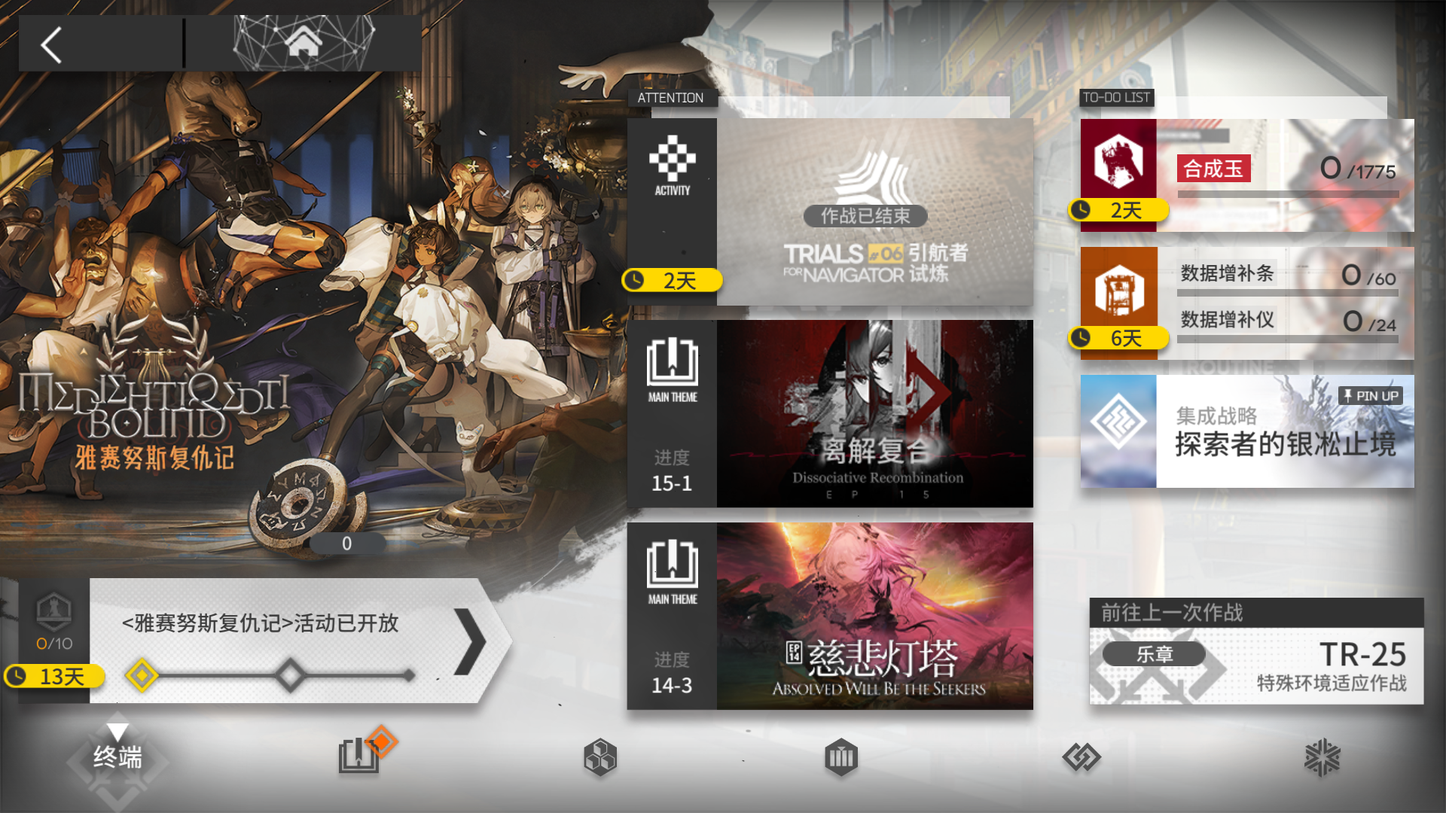Resource_Collection_Button: (530, 711, 717, 794)
Return_Button: (11, 15, 162, 74)
